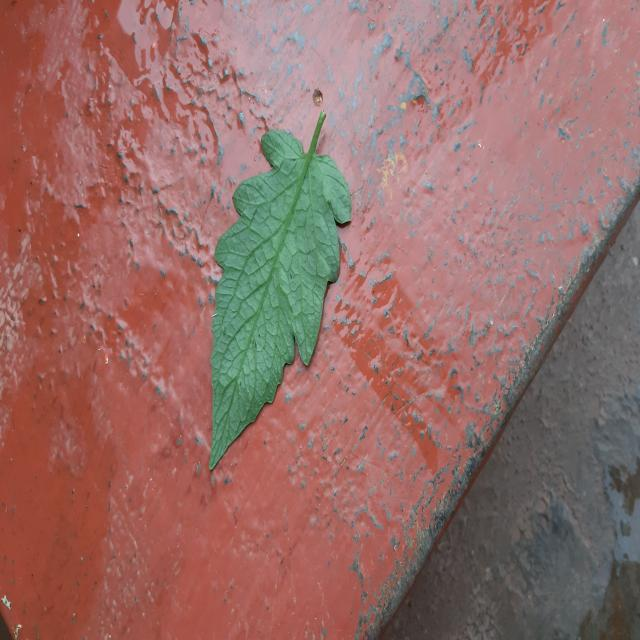tomato: (210, 111, 351, 469)
